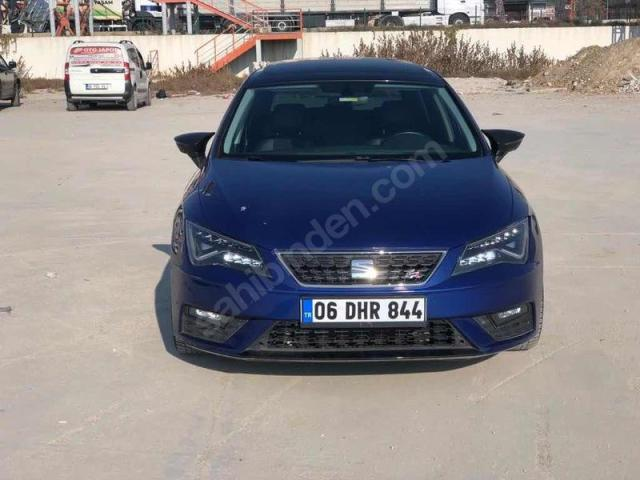plaka: (301, 298, 426, 322)
